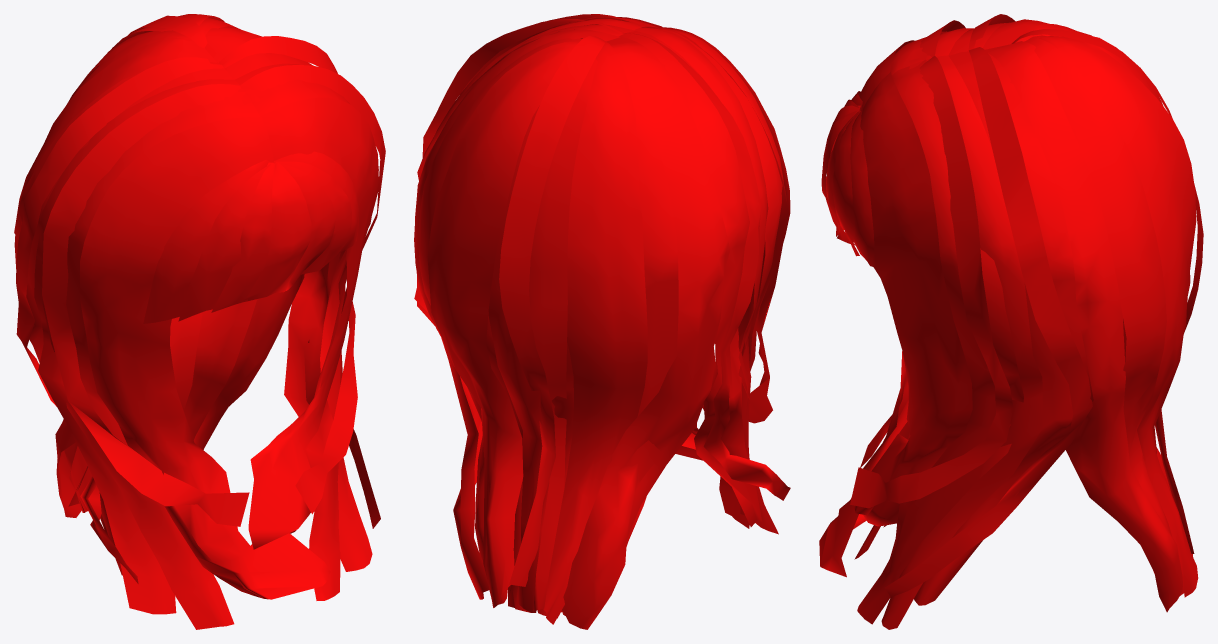
Rendered from elvs_katherine_hair_F.glb.
The picture shows the model from 3 angles, left to right: view 1: azimuth 30°, elevation 25°; view 2: azimuth 150°, elevation 25°; view 3: azimuth 270°, elevation 25°; orthographic projection. The views are drawn at different scales.
Size of the model in its own units: 0.2352 by 0.3486 by 0.2174.
Materials: 1 (1 with a texture image).
